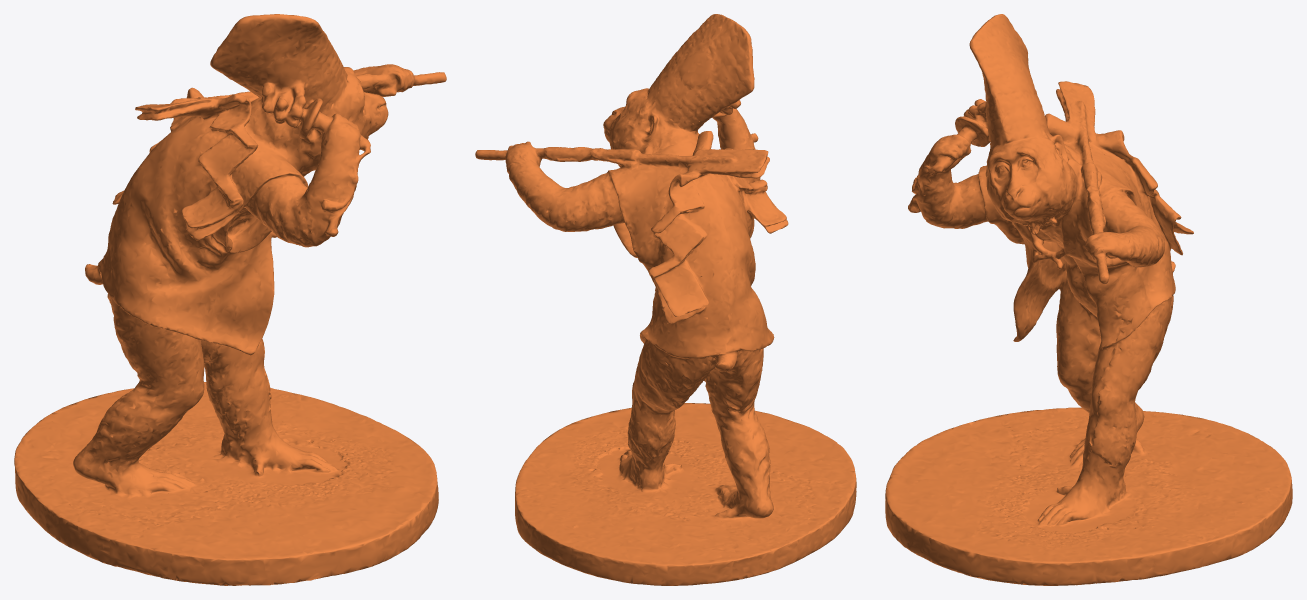
The model's file is preview.glb.
The picture shows the model from 3 angles, left to right: view 1: azimuth 30°, elevation 25°; view 2: azimuth 150°, elevation 25°; view 3: azimuth 270°, elevation 25°; orthographic projection. The views are drawn at different scales.
Visible parts, largest first — view 1: Object_2; view 2: Object_2; view 3: Object_2.
Boxes of the visible parts, box(x1,y1,x2,y2) form: Object_2: box(14, 14, 446, 585); Object_2: box(475, 14, 856, 585); Object_2: box(885, 14, 1292, 585).
Bounding box in the file's own units: 0.7082 × 0.8837 × 0.671.
